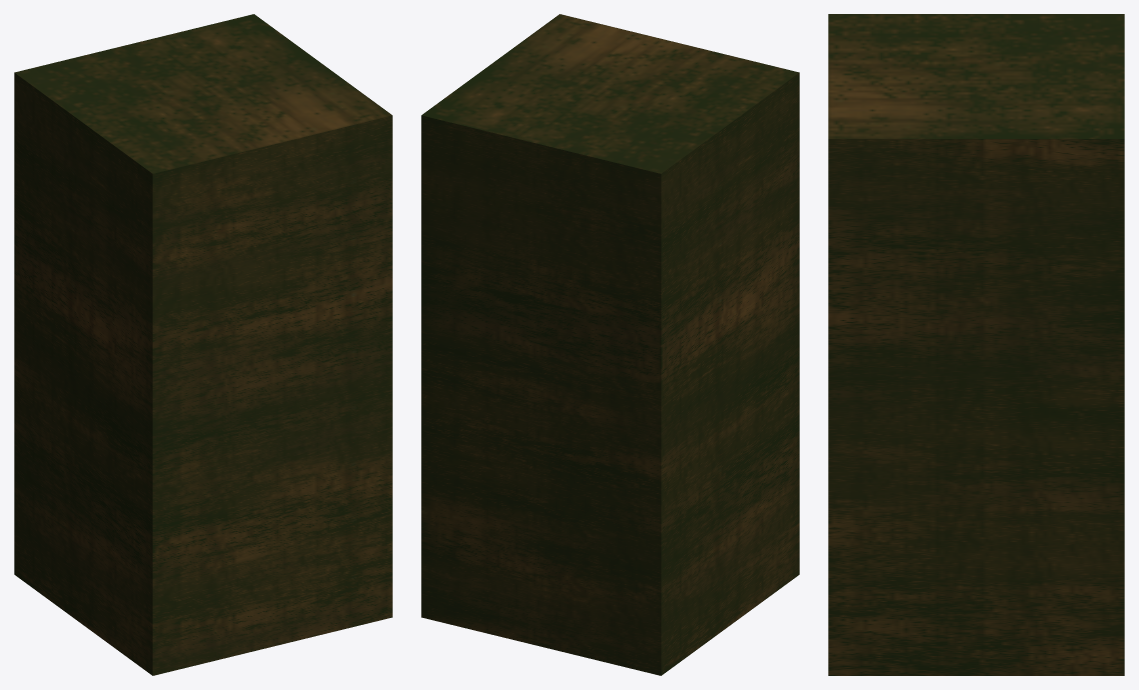
The model's file is shrine_pillar_02.fbx.
3 views of the same model, side by side, from view 1: azimuth 30°, elevation 25°; view 2: azimuth 150°, elevation 25°; view 3: azimuth 270°, elevation 25° (orthographic). The views are drawn at different scales.
Parts seen in each view (by area): view 1: shrine_pillar_02; view 2: shrine_pillar_02; view 3: shrine_pillar_02.
Boxes of the visible parts, left/top/right/bottom form: shrine_pillar_02: left=14, top=14, right=392, bottom=675; shrine_pillar_02: left=421, top=14, right=799, bottom=675; shrine_pillar_02: left=828, top=14, right=1124, bottom=675.
Bounding box in the file's own units: 19.7 × 39.4 × 19.7.
Materials: 1 (1 with a texture image).
